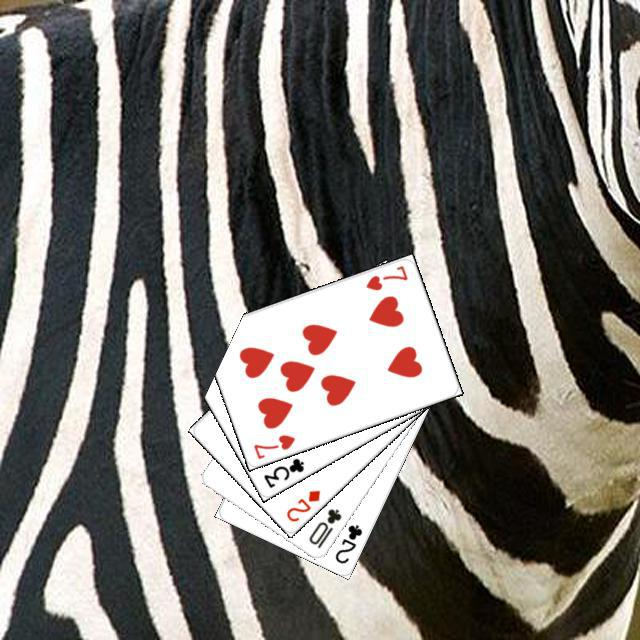10c: (304, 504, 343, 550)
2c: (330, 520, 364, 565)
2d: (281, 485, 322, 524)
3c: (258, 453, 306, 490)
7h: (361, 260, 410, 292), (249, 430, 297, 461)
